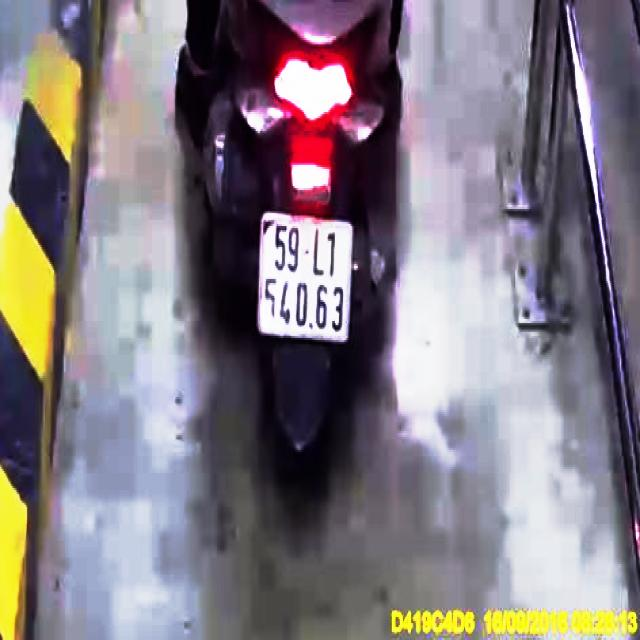license_plate: (259, 214, 354, 341)
